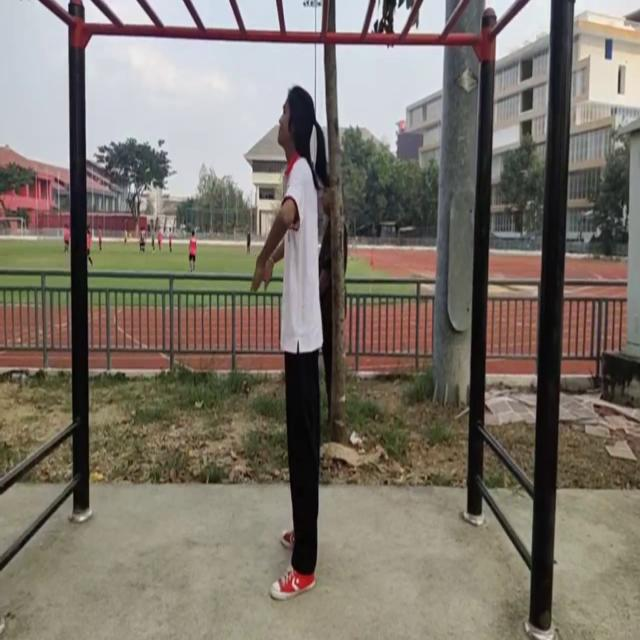stand: (252, 89, 325, 601)
